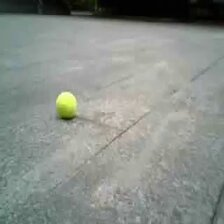tennis: (57, 92, 75, 117)
